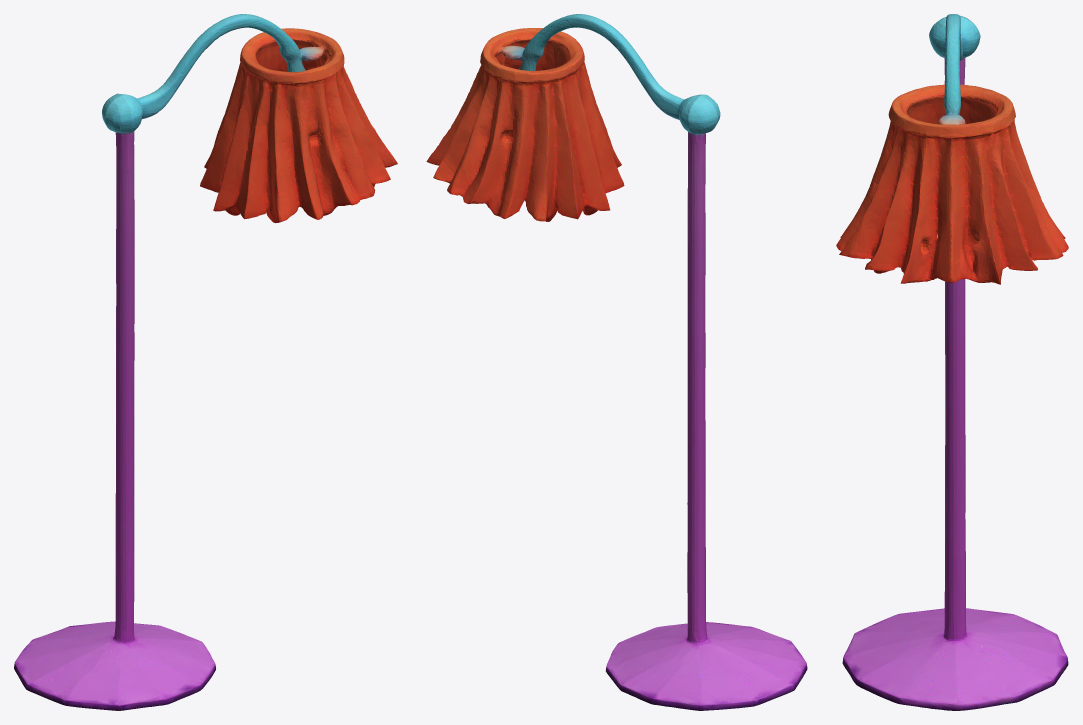
File: floor_lamp_with_red_pleated_shade_000.glb
3 views of the same model, side by side, from view 1: azimuth 30°, elevation 25°; view 2: azimuth 150°, elevation 25°; view 3: azimuth 270°, elevation 25° (orthographic). The views are drawn at different scales.
Visible parts, largest first — view 1: phase2_final_floor_lamp_with_red_pleated_shade_000.obj; view 2: phase2_final_floor_lamp_with_red_pleated_shade_000.obj; view 3: phase2_final_floor_lamp_with_red_pleated_shade_000.obj.
Part boxes in pixels (x1,y1,x2,y2): phase2_final_floor_lamp_with_red_pleated_shade_000.obj: [14, 14, 397, 710]; phase2_final_floor_lamp_with_red_pleated_shade_000.obj: [426, 14, 807, 710]; phase2_final_floor_lamp_with_red_pleated_shade_000.obj: [836, 14, 1068, 710].
Size of the model in its own units: 0.6147 by 1.04 by 0.3096.
1 material, 1 textured.
